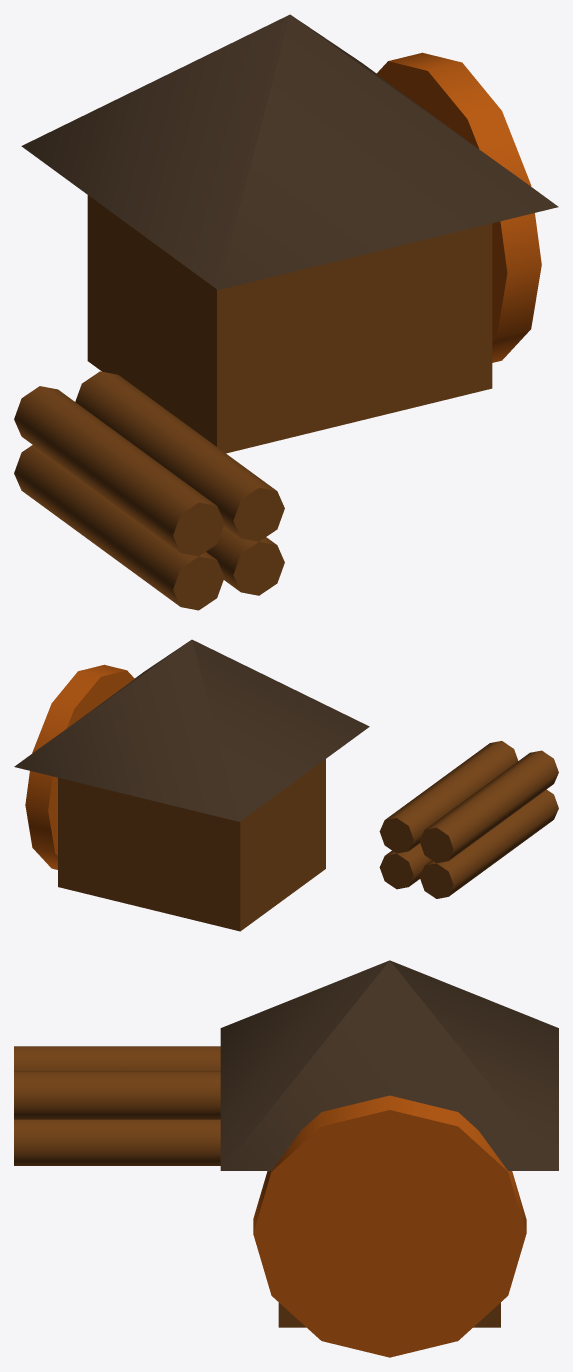
Rendered from lumber_mill.glb.
3 views of the same model, one above another, from view 1: azimuth 30°, elevation 25°; view 2: azimuth 150°, elevation 25°; view 3: azimuth 270°, elevation 25° (orthographic). The views are drawn at different scales.
Visible parts, largest first — view 1: Lumber_Mill; view 2: Lumber_Mill; view 3: Lumber_Mill.
Boxes of the visible parts, x1,y1,x2,y2 form: Lumber_Mill: (14,14,558,610); Lumber_Mill: (14,639,558,931); Lumber_Mill: (14,960,558,1357).
Size of the model in its own units: 5.9 by 4.2 by 6.38.
